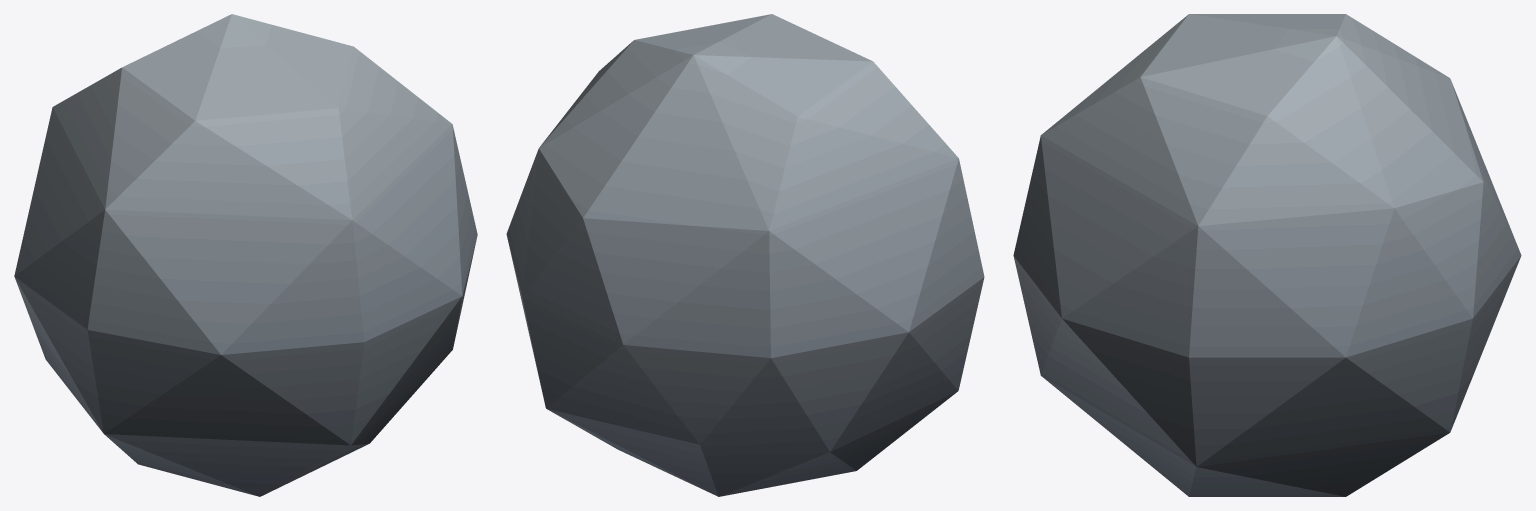
Rendered from sm_rollingstone.fbx.
The picture shows the model from 3 angles, left to right: view 1: azimuth 30°, elevation 25°; view 2: azimuth 150°, elevation 25°; view 3: azimuth 270°, elevation 25°; orthographic projection. The views are drawn at different scales.
Visible parts, largest first — view 1: Icosphere; view 2: Icosphere; view 3: Icosphere.
Boxes of the visible parts, left/top/right/bottom form: Icosphere: left=14, top=14, right=477, bottom=496; Icosphere: left=506, top=14, right=984, bottom=496; Icosphere: left=1013, top=14, right=1521, bottom=496.
Size of the model in its own units: 380 by 400 by 398.
